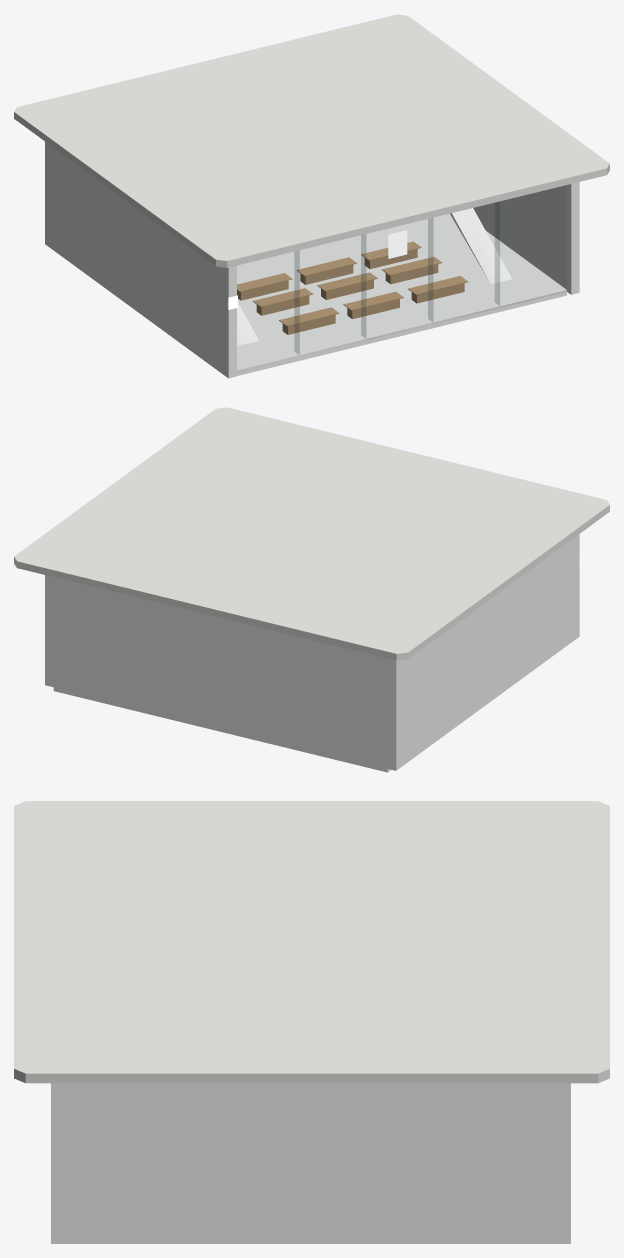
Rendered from apple_flagship_lod2.glb.
3 views of the same model, one above another, from view 1: azimuth 30°, elevation 25°; view 2: azimuth 150°, elevation 25°; view 3: azimuth 270°, elevation 25° (orthographic). The views are drawn at different scales.
Parts seen in each view (by area): view 1: P06_LOD2_FACADE_DETAILS_RoofPlate, P06_LOD2_BUILDING_EXTERIOR_Stone, P06_LOD2_BUILDING_INTERIOR_GroundSlab, P06_LOD2_DISPLAY_OBJECTS_Products, P06_LOD2_GLASS_SYSTEM_Fins, P06_LOD2_BUILDING_INTERIOR_Stair10, P06_LOD2_BUILDING_INTERIOR_Stair-10, P06_LOD2_BRAND_SIGNAGE_CORRECTED_SuspendedLogo; view 2: P06_LOD2_FACADE_DETAILS_RoofPlate, P06_LOD2_BUILDING_EXTERIOR_Stone, P06_LOD2_BUILDING_INTERIOR_GroundSlab; view 3: P06_LOD2_FACADE_DETAILS_RoofPlate, P06_LOD2_BUILDING_EXTERIOR_Stone.
Boxes of the visible parts, box(x1,y1,x2,y2) form: P06_LOD2_FACADE_DETAILS_RoofPlate: box(14, 14, 609, 267); P06_LOD2_BUILDING_EXTERIOR_Stone: box(45, 141, 579, 378); P06_LOD2_BUILDING_INTERIOR_GroundSlab: box(237, 213, 566, 375); P06_LOD2_DISPLAY_OBJECTS_Products: box(237, 241, 468, 334); P06_LOD2_GLASS_SYSTEM_Fins: box(294, 202, 499, 354); P06_LOD2_BUILDING_INTERIOR_Stair10: box(450, 208, 511, 284); P06_LOD2_BUILDING_INTERIOR_Stair-10: box(237, 303, 258, 345); P06_LOD2_BRAND_SIGNAGE_CORRECTED_SuspendedLogo: box(388, 230, 407, 258); P06_LOD2_FACADE_DETAILS_RoofPlate: box(14, 407, 609, 660); P06_LOD2_BUILDING_EXTERIOR_Stone: box(45, 534, 579, 770); P06_LOD2_BUILDING_INTERIOR_GroundSlab: box(53, 686, 391, 772); P06_LOD2_FACADE_DETAILS_RoofPlate: box(14, 801, 609, 1083); P06_LOD2_BUILDING_EXTERIOR_Stone: box(51, 1083, 570, 1243).
Size of the model in its own units: 33 by 10.75 by 30.5.
